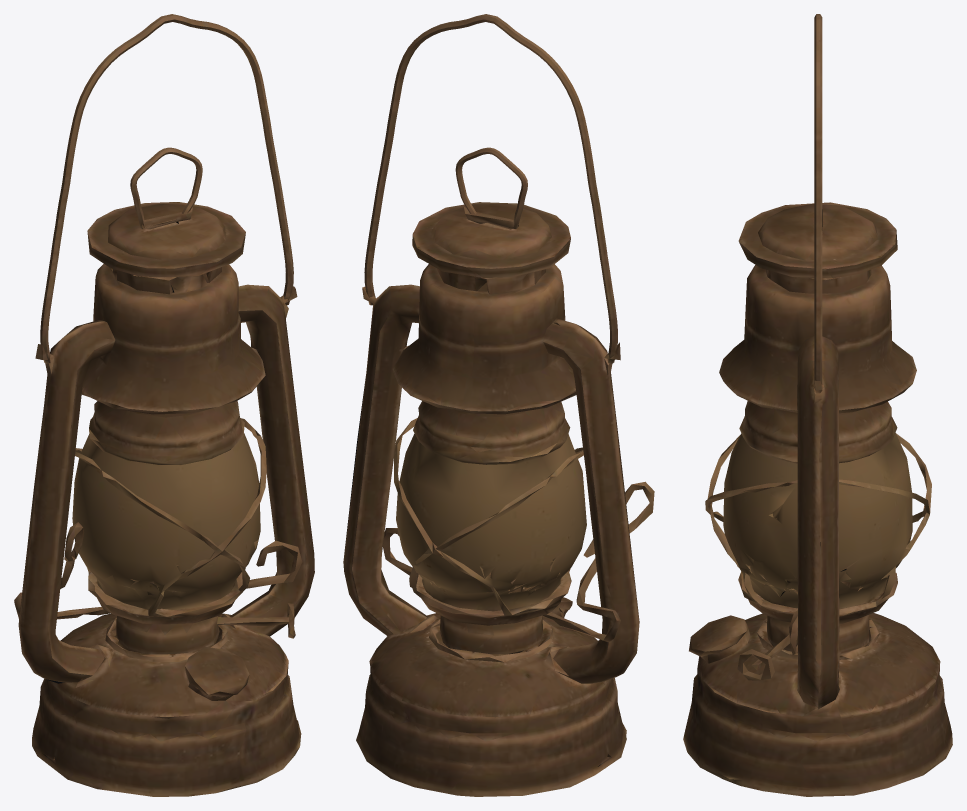
The model's file is lantern_final.glb.
3 renders of one model, left to right at view 1: azimuth 30°, elevation 25°; view 2: azimuth 150°, elevation 25°; view 3: azimuth 270°, elevation 25°, orthographic.
Parts seen in each view (by area): view 1: SM_Lantern; view 2: SM_Lantern; view 3: SM_Lantern.
Boxes of the visible parts, x1,y1,x2,y2 form: SM_Lantern: (14, 14, 314, 796); SM_Lantern: (343, 14, 654, 796); SM_Lantern: (683, 14, 952, 796).
Bounding box in the file's own units: 0.1516 × 0.3578 × 0.1209.
1 material, 1 textured.
